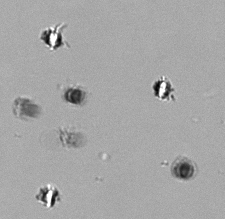Dead Cell: (172, 157, 198, 182), (63, 85, 87, 106)
Living Cell: (38, 24, 69, 50), (151, 75, 177, 102), (35, 183, 61, 208)
